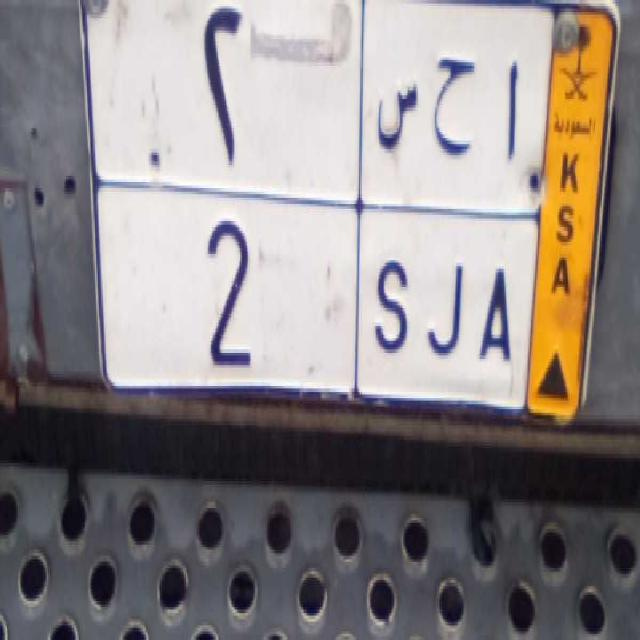license_plate: (93, 181, 534, 409)
